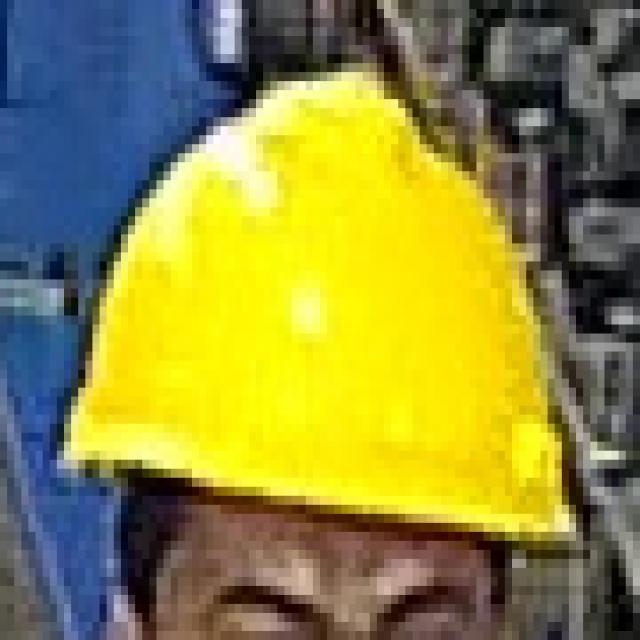yellow helmet: (66, 64, 586, 568)
